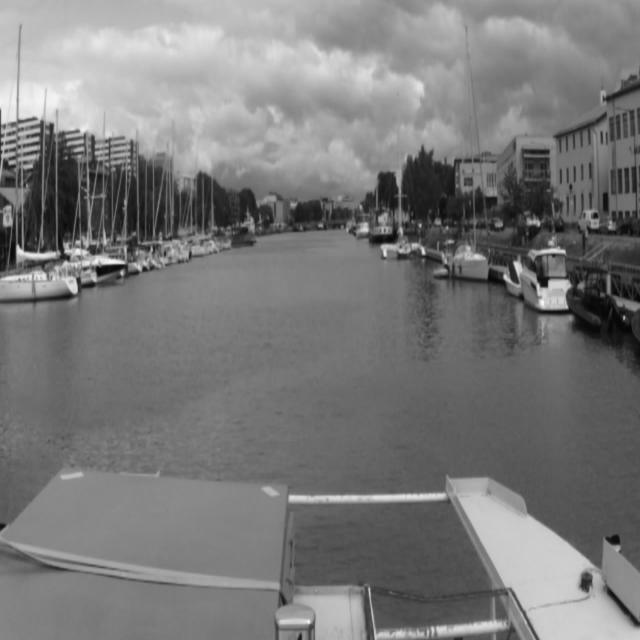ship: (0, 23, 78, 302), (451, 23, 489, 284), (380, 89, 426, 259), (566, 267, 622, 334), (520, 247, 568, 313), (220, 227, 258, 248), (368, 209, 383, 243), (355, 212, 369, 238), (433, 267, 449, 278)
